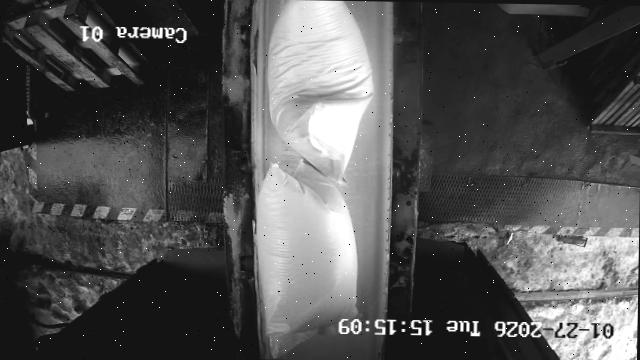bag: (264, 0, 374, 186), (257, 159, 356, 360)
